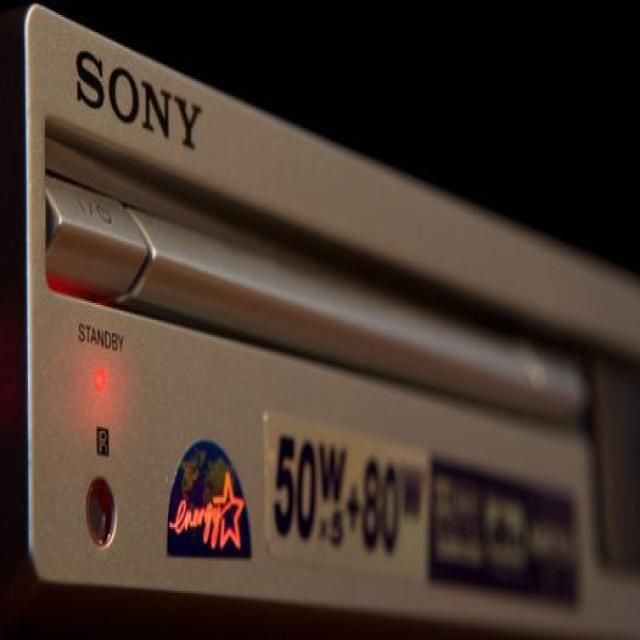electronic: (8, 0, 639, 638)
